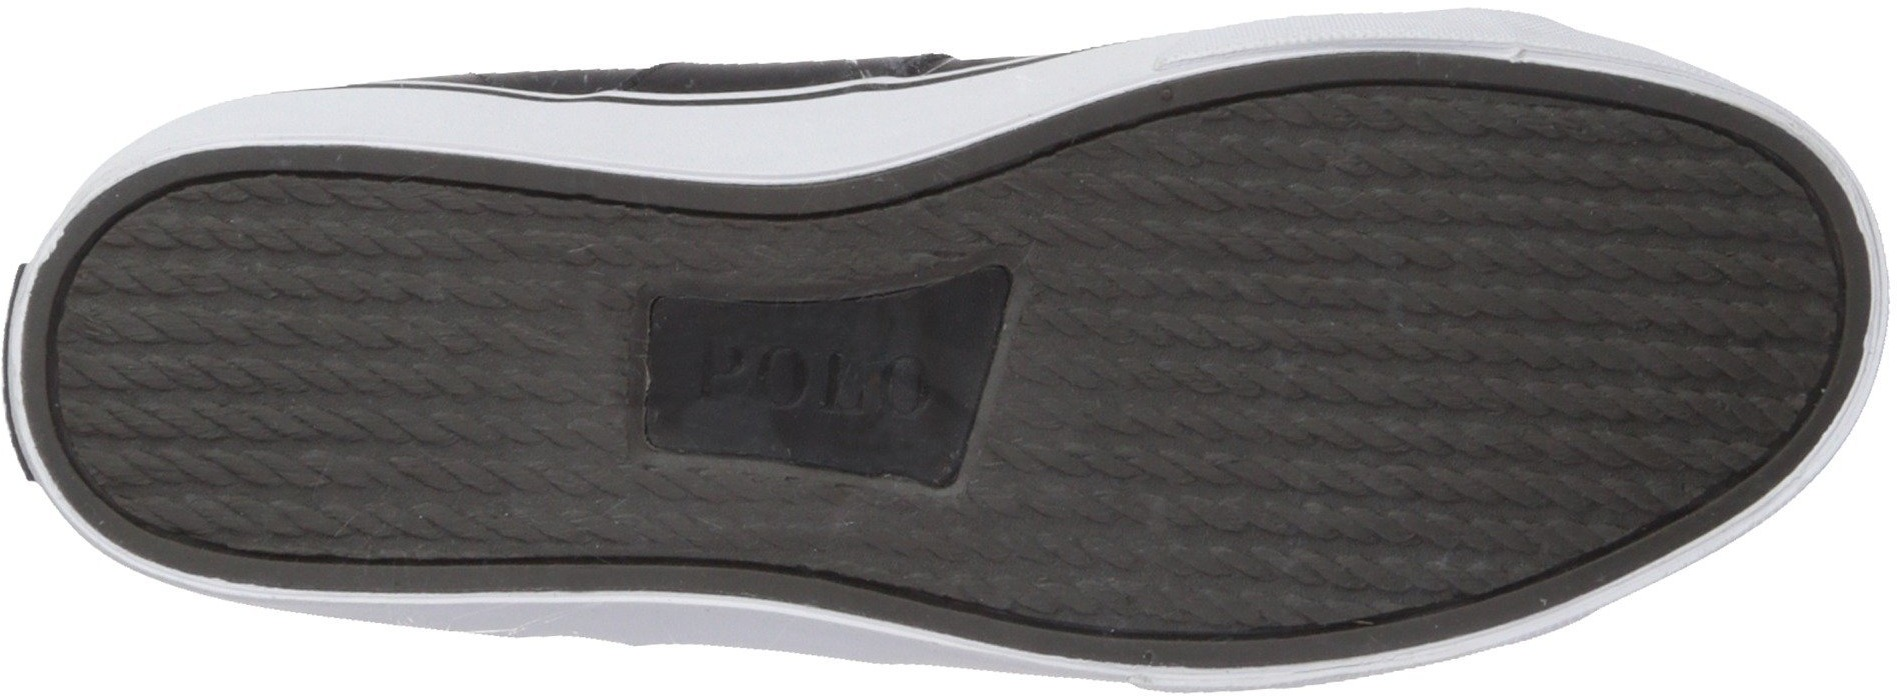line: (1063, 165, 1468, 509)
text: (694, 296, 873, 455)
